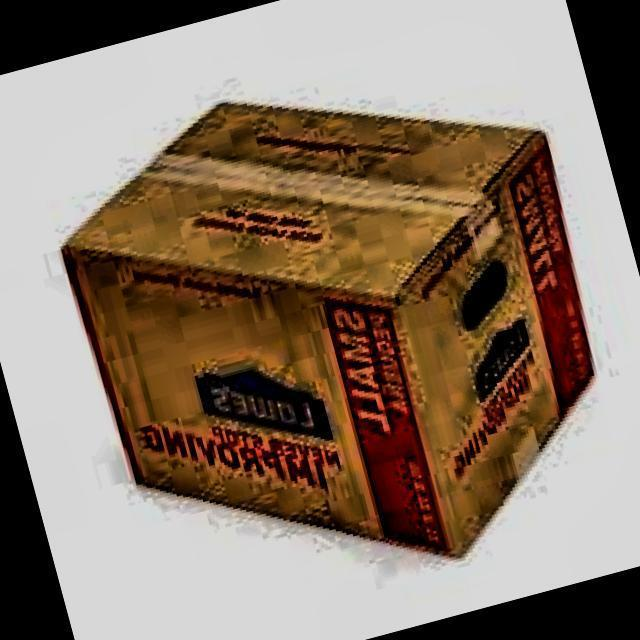cardboard: (33, 17, 640, 636)
